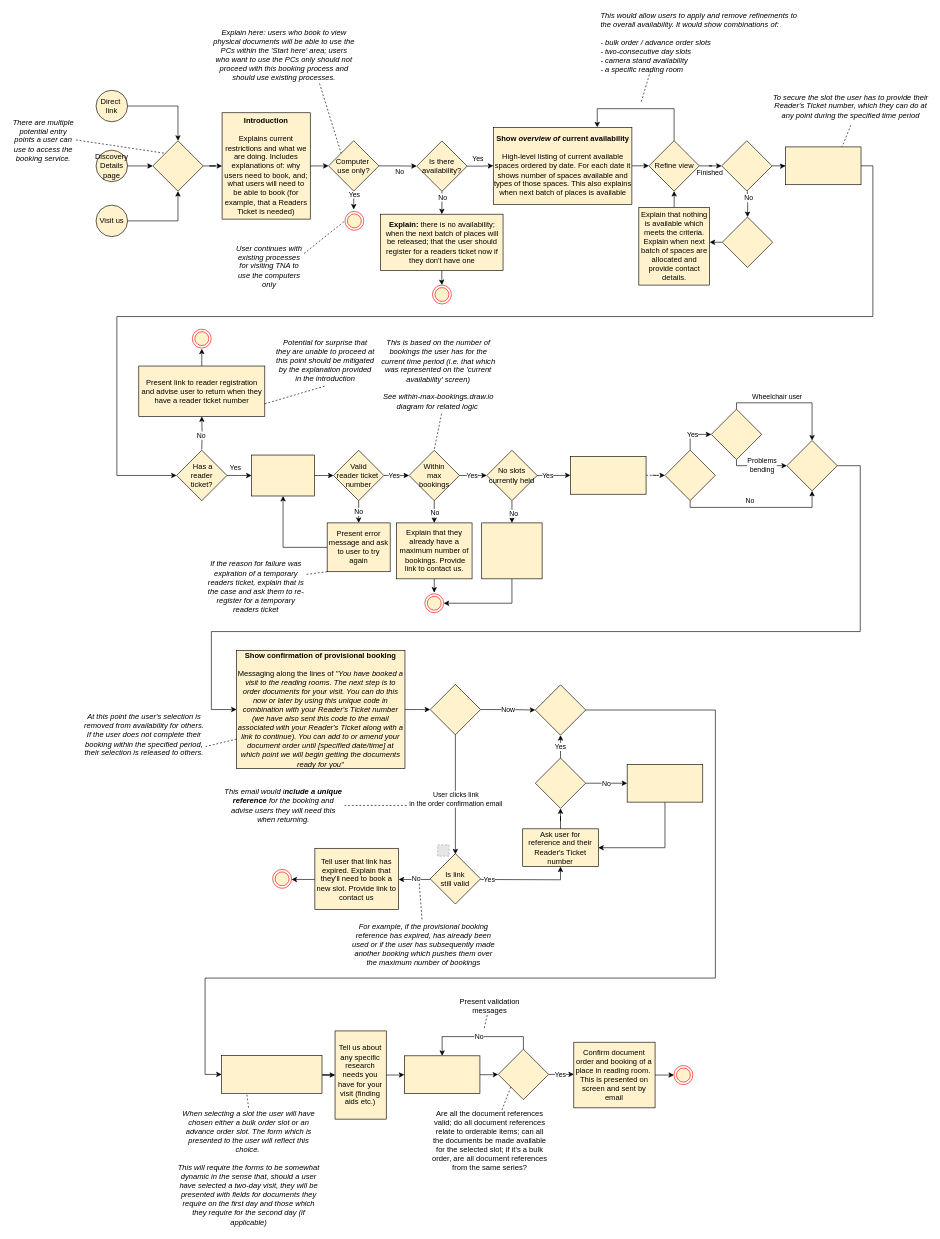
Some shapes in this 940 by 1239 pixel diagram are drawn without their labels. Grey dashed boxes stand in for pictures. The shapes that lost their labels are listed below. From the top down, each one's centre as x and y in pixels, then its label:
(x=746, y=165): Option available
(x=823, y=165): Selects a slot to hold (for a specified time period)
(x=283, y=475): Enter reader ticket number to hold slot
(x=608, y=475): Do you have accessibility needs for your visit?
(x=511, y=550): Explain they currently have a slot held and should check their email to continue
(x=455, y=709): Continue
(x=560, y=782): Supplied information is valid
(x=665, y=783): Explain that reference and/or Reader's Ticket are not valid
(x=271, y=1074): Present form that corresponds to the booking the user has made.
(x=442, y=1074): Complete and submit form
(x=523, y=1074): All is OK
